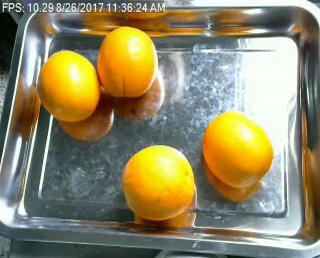Orange: (122, 144, 196, 219), (203, 110, 274, 187), (34, 49, 98, 120), (98, 26, 158, 97)
